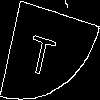T: (25, 25, 60, 77)
